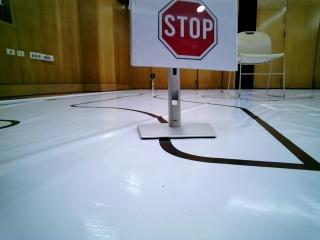stop: (134, 1, 226, 65)
